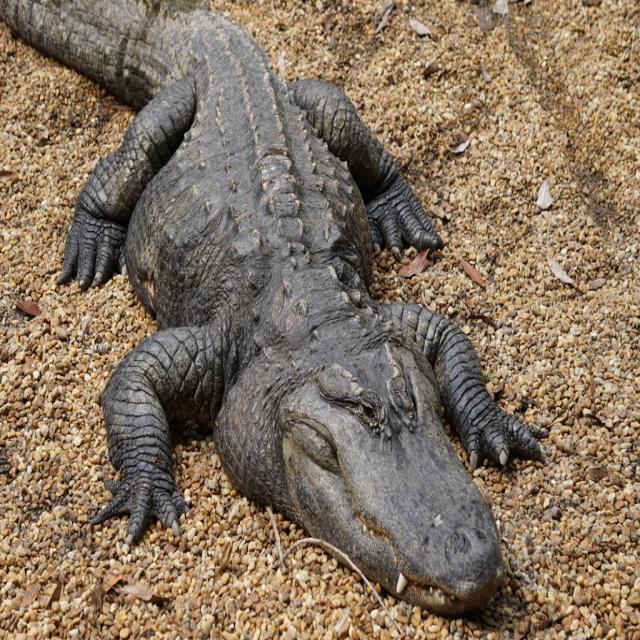crocodile: (0, 0, 546, 620)
